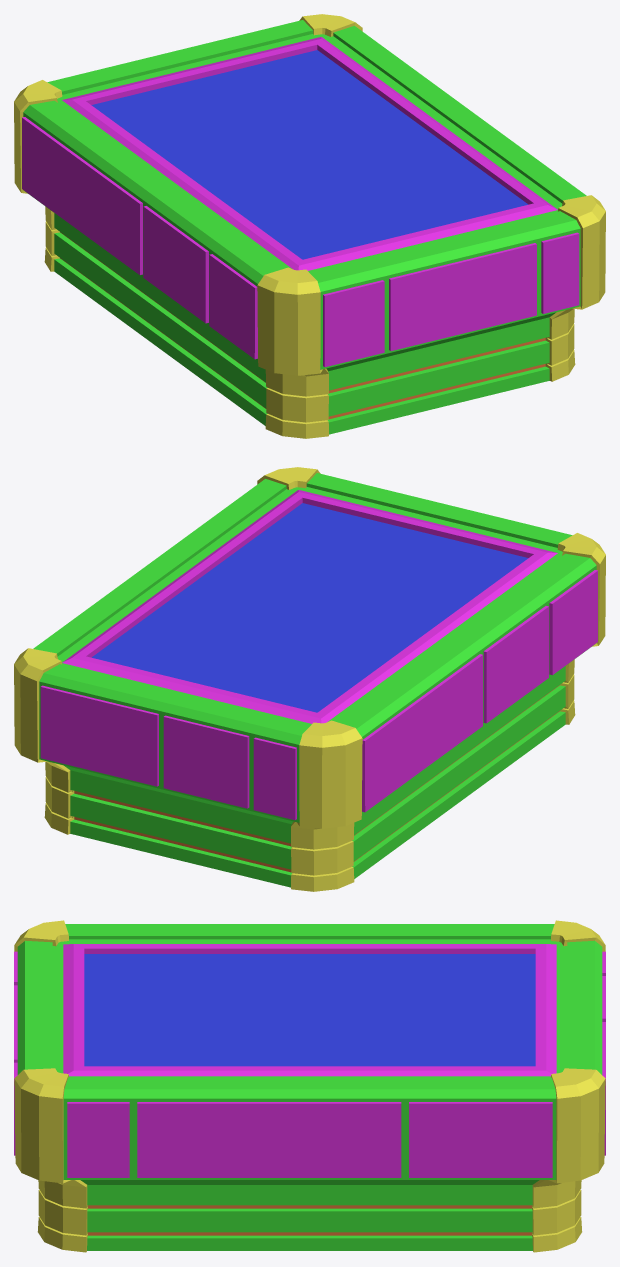
The model's file is Table_03.fbx.
The picture shows the model from 3 angles, top to bottom: view 1: azimuth 30°, elevation 25°; view 2: azimuth 150°, elevation 25°; view 3: azimuth 270°, elevation 25°; orthographic projection. The views are drawn at different scales.
Visible parts, largest first — view 1: Table_03; view 2: Table_03; view 3: Table_03.
Boxes of the visible parts, bbox=[...] form: Table_03: bbox=[14, 14, 605, 438]; Table_03: bbox=[14, 467, 605, 891]; Table_03: bbox=[14, 920, 605, 1252].
Bounding box in the file's own units: 141 × 64.52 × 202.
